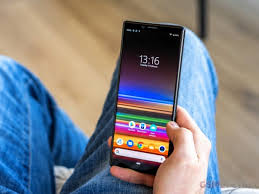sony: (105, 15, 186, 170)
